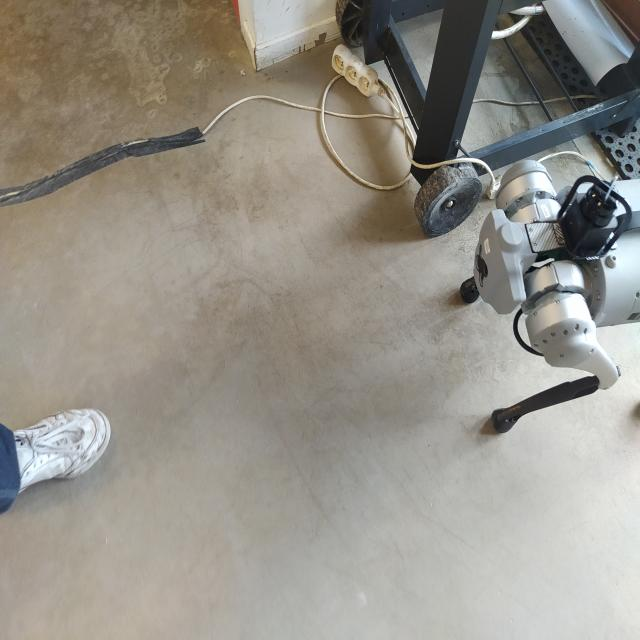unitree-go1-robot: (464, 160, 640, 429)
